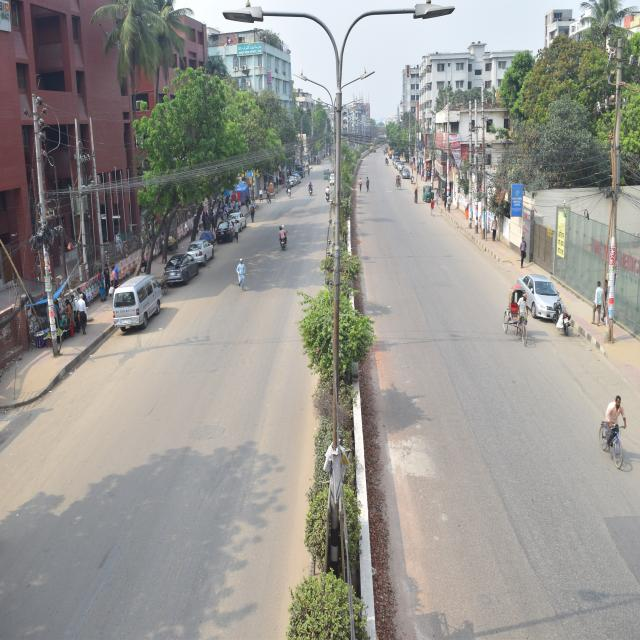car: (516, 266, 558, 316), (165, 252, 197, 284), (189, 234, 214, 266), (213, 220, 237, 243), (232, 208, 248, 233), (403, 168, 414, 184), (397, 164, 409, 173)
microbus: (107, 264, 158, 342)
motorbike: (550, 298, 572, 346), (276, 223, 299, 253), (322, 182, 334, 200), (306, 180, 316, 198)
